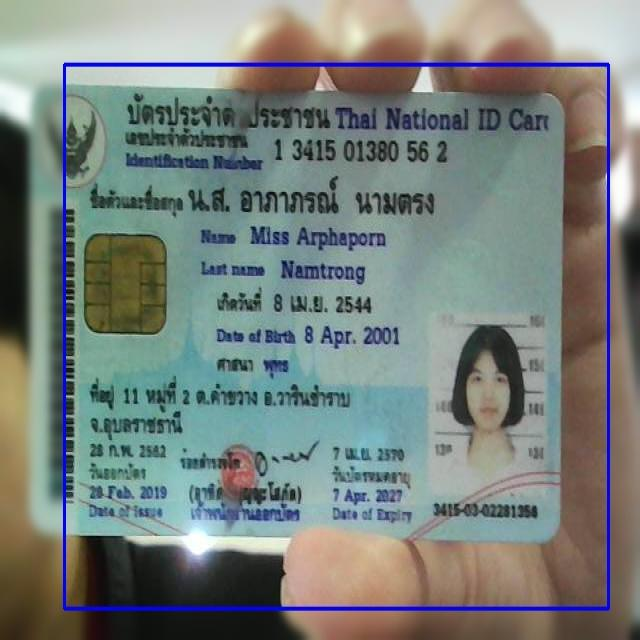Address_th: (87, 371, 363, 444)
Date_of_Birth: (301, 317, 406, 358)
Date_of_Expiry: (326, 484, 412, 507)
Date_of_Issue: (83, 479, 173, 505)
First_Name: (244, 217, 388, 256)
ID_Number: (270, 132, 458, 170)
Image: (430, 316, 548, 500)
Last_Name: (279, 256, 368, 288)
Thai_Name: (185, 170, 442, 223)
